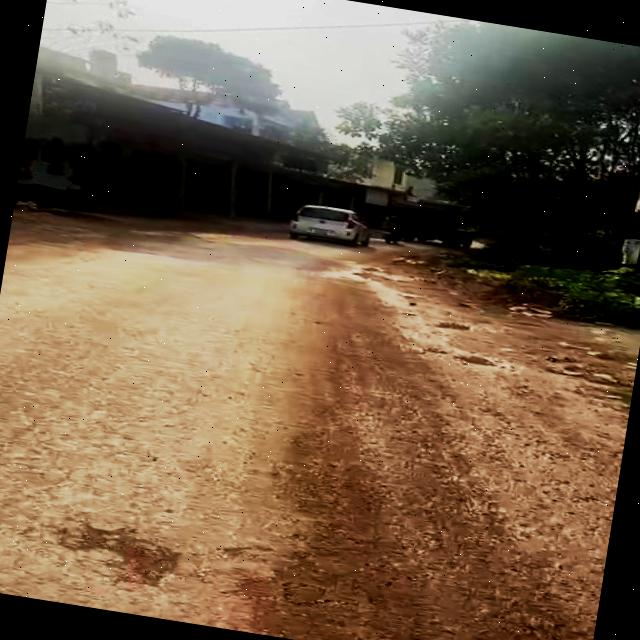pothole: (38, 514, 207, 598)
